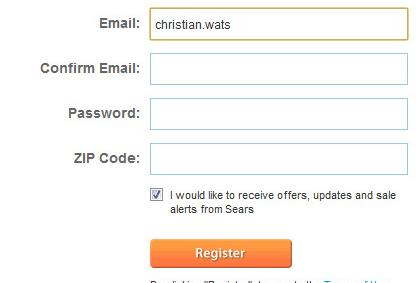button: (149, 238, 292, 269)
checkbox: (149, 187, 165, 201)
checkbox_with_label: (145, 186, 398, 205)
field: (147, 7, 410, 42), (147, 142, 409, 176), (148, 97, 408, 131), (147, 52, 409, 85)
field_with_label: (39, 50, 411, 87), (75, 139, 410, 179), (66, 96, 409, 132), (99, 4, 411, 43)
